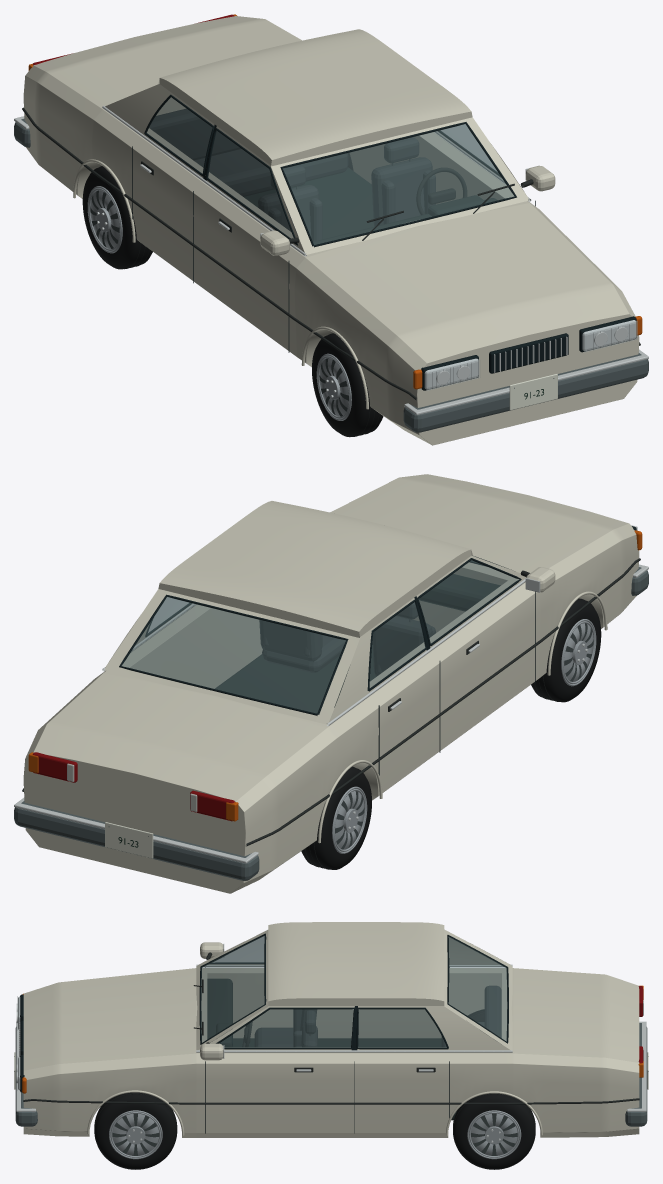
Rendered from crown-sedan.glb.
The picture shows the model from 3 angles, top to bottom: view 1: azimuth 30°, elevation 25°; view 2: azimuth 150°, elevation 25°; view 3: azimuth 270°, elevation 25°; orthographic projection. The views are drawn at different scales.
Parts seen in each view (by area): view 1: formed steel body, windshield, cloth cushion, windshield gasket, tire casing, interior floor, bumper, belt molding, steering rim, rim bead, headlamp reflector, fluted headlamp cover (+2 smaller); view 2: formed steel body, windshield, interior floor, cloth cushion, tire casing, bumper, windshield gasket, rim bead, belt molding, steering rim, rear combination lamp, registration plate (+1 smaller); view 3: formed steel body, windshield, tire casing, windshield gasket, rim bead, interior floor, cloth cushion, steering rim, belt molding, bumper, headrest post.
Boxes of the visible parts, x1,y1,x2,y2 form: formed steel body: (23,16,639,445); windshield: (146,97,514,246); cloth cushion: (149,108,435,241); windshield gasket: (132,94,636,390); tire casing: (82,153,383,437); interior floor: (244,167,497,244); bumper: (14,119,648,432); belt molding: (14,105,648,415); steering rim: (22,107,640,436); rim bead: (87,186,351,420); headlamp reflector: (424,320,636,389); fluted headlamp cover: (426,321,637,390); formed steel body: (23,474,639,893); windshield: (121,560,519,713); interior floor: (215,574,500,713); cloth cushion: (259,602,435,676); tire casing: (301,599,601,869); bumper: (14,567,648,880); windshield gasket: (119,526,636,775); rim bead: (332,619,596,853); belt molding: (14,564,648,863); steering rim: (22,558,640,869); rear combination lamp: (32,752,234,821); registration plate: (105,822,153,858); formed steel body: (23,922,639,1137); windshield: (201,935,507,1047); tire casing: (94,1011,535,1169); windshield gasket: (20,933,508,1133); rim bead: (109,1110,521,1159); interior floor: (207,978,484,1120); cloth cushion: (254,985,501,1047); steering rim: (23,952,639,1141); belt molding: (16,944,646,1142); bumper: (15,1023,647,1126); headrest post: (14,1034,648,1155).
Size of the model in its own units: 1.96 by 1.41 by 4.83.
